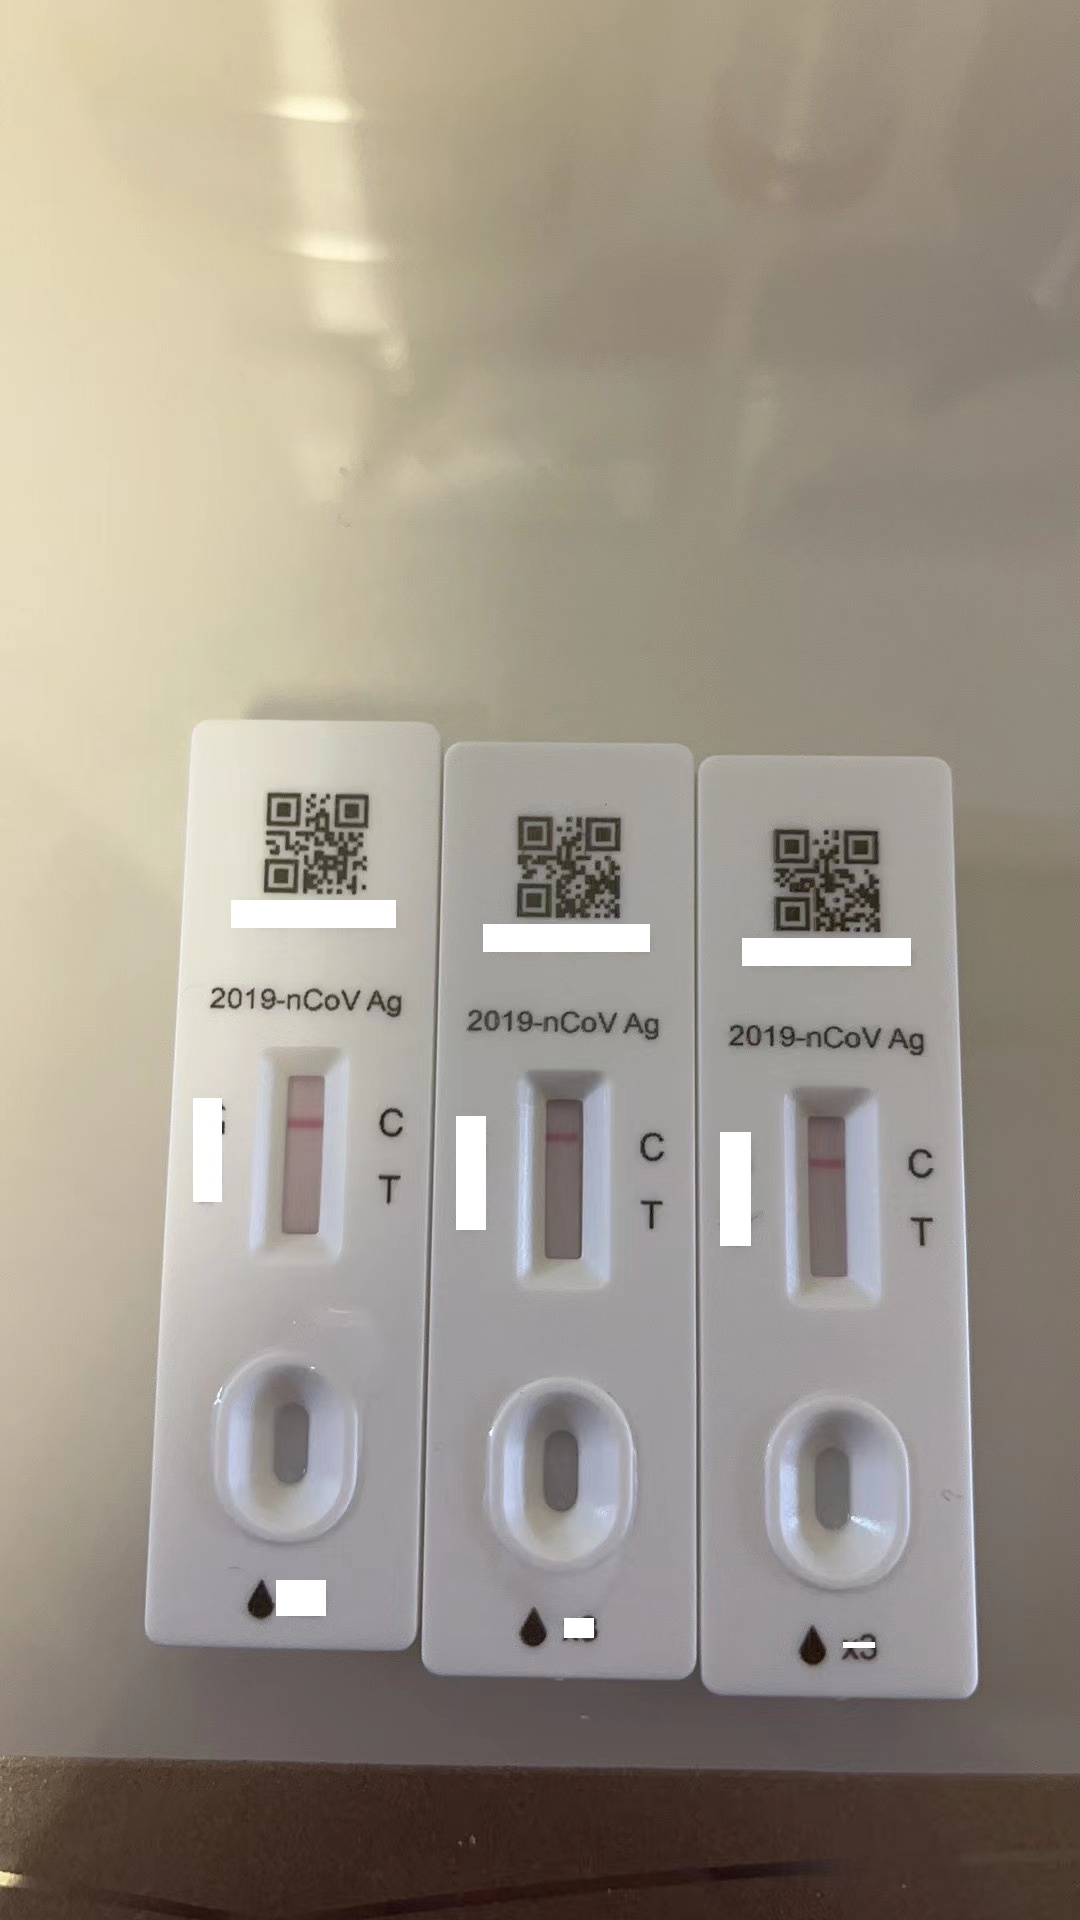negative: (782, 1085, 884, 1309), (520, 1068, 608, 1298), (256, 1040, 348, 1258)
